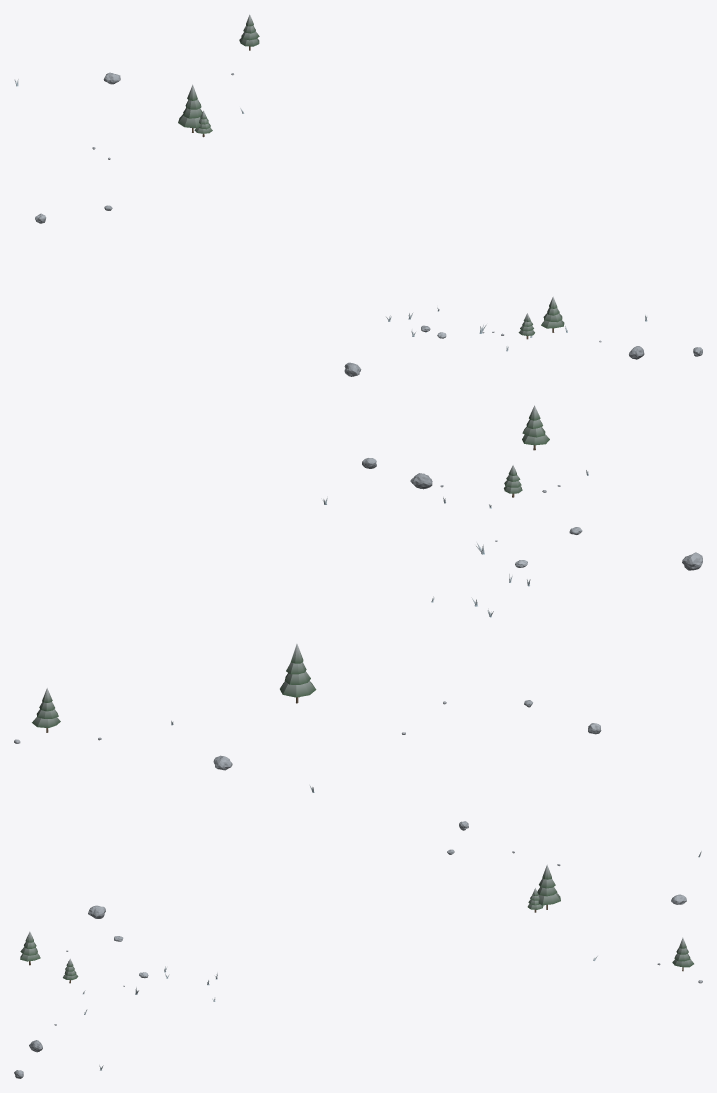
File: frost_land_scatter_c21_11.glb
3 renders of one model, top to bottom at view 1: azimuth 30°, elevation 25°; view 2: azimuth 150°, elevation 25°; view 3: azimuth 270°, elevation 25°, orthographic. The views are drawn at different scales.
Parts seen in each view (by area): view 1: frost_land_scatter_c21_11; view 2: frost_land_scatter_c21_11; view 3: frost_land_scatter_c21_11.
Part boxes in pixels (bbox=[...]): frost_land_scatter_c21_11: bbox=[14, 14, 702, 376]; frost_land_scatter_c21_11: bbox=[14, 405, 702, 792]; frost_land_scatter_c21_11: bbox=[14, 821, 702, 1078].
Size of the model in its own units: 158 by 41.98 by 235.
